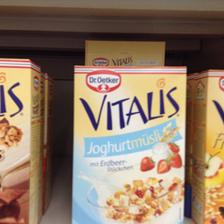Cerealien: (72, 64, 182, 222), (0, 56, 42, 222)
